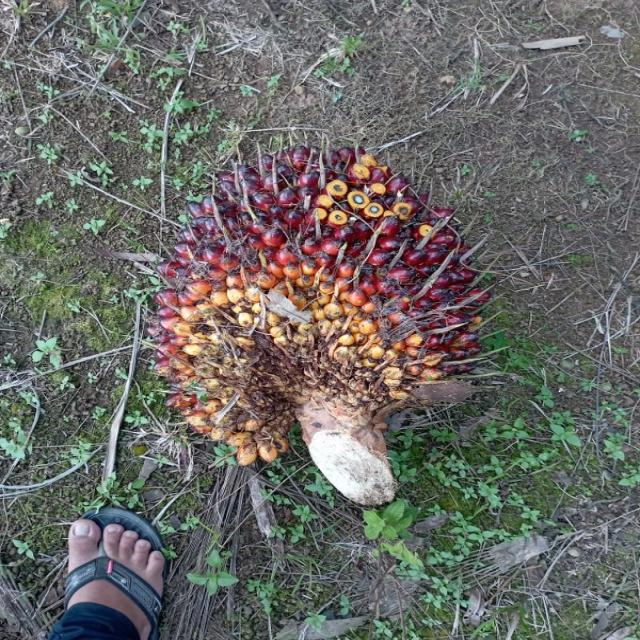fraksi 1: (83, 106, 499, 517)
